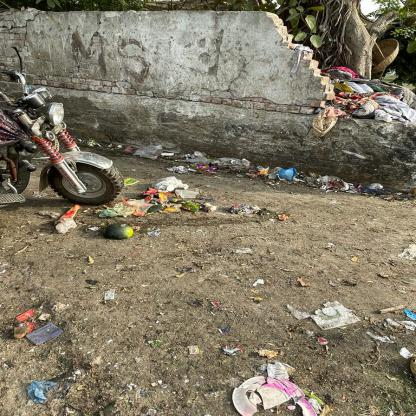Garbage: (47, 141, 391, 242)
